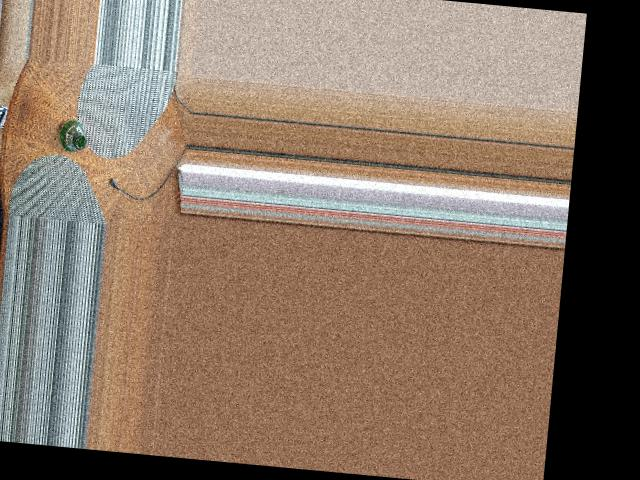beer: (55, 118, 88, 153)
